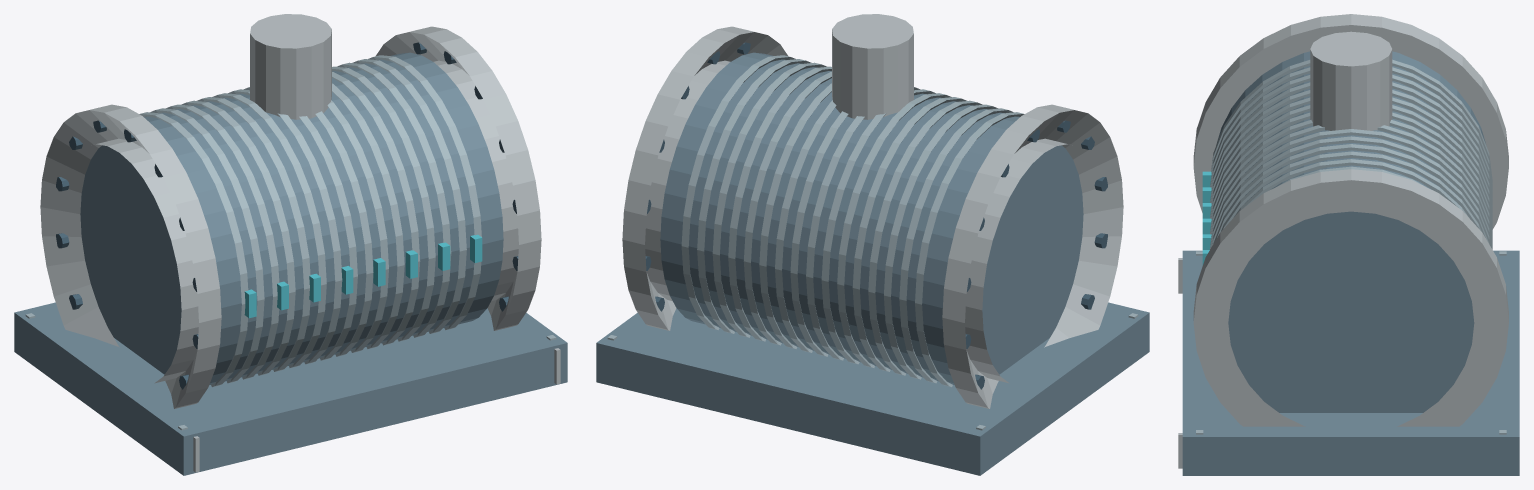
Rendered from 25_L72_TurbomolecularVacuumPump.glb.
3 views of the same model, side by side, from view 1: azimuth 30°, elevation 25°; view 2: azimuth 150°, elevation 25°; view 3: azimuth 270°, elevation 25° (orthographic).
Parts seen in each view (by area): view 1: TurbomolecularVacuumPump_Part_007, TurbomolecularVacuumPump_Part_000, TurbomolecularVacuumPump_Part_184, TurbomolecularVacuumPump_Part_199, TurbomolecularVacuumPump_Part_214, TurbomolecularVacuumPump_Part_162, TurbomolecularVacuumPump_Part_019, TurbomolecularVacuumPump_Part_052, TurbomolecularVacuumPump_Part_041, TurbomolecularVacuumPump_Part_140, TurbomolecularVacuumPump_Part_063, TurbomolecularVacuumPump_Part_030 (+9 smaller); view 2: TurbomolecularVacuumPump_Part_007, TurbomolecularVacuumPump_Part_000, TurbomolecularVacuumPump_Part_184, TurbomolecularVacuumPump_Part_199, TurbomolecularVacuumPump_Part_214, TurbomolecularVacuumPump_Part_162, TurbomolecularVacuumPump_Part_063, TurbomolecularVacuumPump_Part_052, TurbomolecularVacuumPump_Part_041, TurbomolecularVacuumPump_Part_030, TurbomolecularVacuumPump_Part_173, TurbomolecularVacuumPump_Part_151 (+9 smaller); view 3: TurbomolecularVacuumPump_Part_007, TurbomolecularVacuumPump_Part_000, TurbomolecularVacuumPump_Part_199, TurbomolecularVacuumPump_Part_184, TurbomolecularVacuumPump_Part_214, TurbomolecularVacuumPump_Part_118, TurbomolecularVacuumPump_Part_129, TurbomolecularVacuumPump_Part_140, TurbomolecularVacuumPump_Part_151, TurbomolecularVacuumPump_Part_107, TurbomolecularVacuumPump_Part_096, TurbomolecularVacuumPump_Part_041 (+9 smaller).
Part boxes in pixels (left/top/right/bottom): TurbomolecularVacuumPump_Part_007: left=80, top=52, right=503, bottom=384; TurbomolecularVacuumPump_Part_000: left=14, top=302, right=567, bottom=475; TurbomolecularVacuumPump_Part_184: left=40, top=104, right=221, bottom=408; TurbomolecularVacuumPump_Part_199: left=376, top=26, right=541, bottom=330; TurbomolecularVacuumPump_Part_214: left=250, top=14, right=331, bottom=119; TurbomolecularVacuumPump_Part_162: left=352, top=59, right=466, bottom=333; TurbomolecularVacuumPump_Part_019: left=150, top=108, right=264, bottom=383; TurbomolecularVacuumPump_Part_052: left=197, top=97, right=310, bottom=371; TurbomolecularVacuumPump_Part_041: left=181, top=100, right=295, bottom=375; TurbomolecularVacuumPump_Part_140: left=332, top=66, right=435, bottom=341; TurbomolecularVacuumPump_Part_063: left=212, top=93, right=326, bottom=367; TurbomolecularVacuumPump_Part_030: left=165, top=104, right=279, bottom=379; TurbomolecularVacuumPump_Part_007: left=660, top=52, right=1083, bottom=384; TurbomolecularVacuumPump_Part_000: left=596, top=302, right=1149, bottom=475; TurbomolecularVacuumPump_Part_184: left=942, top=104, right=1123, bottom=408; TurbomolecularVacuumPump_Part_199: left=622, top=26, right=787, bottom=330; TurbomolecularVacuumPump_Part_214: left=832, top=14, right=913, bottom=119; TurbomolecularVacuumPump_Part_162: left=697, top=59, right=811, bottom=333; TurbomolecularVacuumPump_Part_063: left=837, top=93, right=951, bottom=367; TurbomolecularVacuumPump_Part_052: left=852, top=97, right=966, bottom=371; TurbomolecularVacuumPump_Part_041: left=868, top=100, right=982, bottom=375; TurbomolecularVacuumPump_Part_030: left=884, top=104, right=998, bottom=379; TurbomolecularVacuumPump_Part_173: left=681, top=55, right=795, bottom=330; TurbomolecularVacuumPump_Part_151: left=712, top=62, right=826, bottom=337; TurbomolecularVacuumPump_Part_007: left=1216, top=51, right=1485, bottom=412; TurbomolecularVacuumPump_Part_000: left=1182, top=250, right=1519, bottom=475; TurbomolecularVacuumPump_Part_199: left=1193, top=169, right=1508, bottom=426; TurbomolecularVacuumPump_Part_184: left=1193, top=14, right=1508, bottom=229; TurbomolecularVacuumPump_Part_214: left=1310, top=31, right=1392, bottom=130; TurbomolecularVacuumPump_Part_118: left=1211, top=129, right=1491, bottom=247; TurbomolecularVacuumPump_Part_129: left=1212, top=136, right=1490, bottom=245; TurbomolecularVacuumPump_Part_140: left=1213, top=144, right=1489, bottom=243; TurbomolecularVacuumPump_Part_151: left=1221, top=151, right=1481, bottom=231; TurbomolecularVacuumPump_Part_107: left=1210, top=125, right=1492, bottom=249; TurbomolecularVacuumPump_Part_096: left=1211, top=120, right=1492, bottom=246; TurbomolecularVacuumPump_Part_041: left=1210, top=82, right=1492, bottom=209.
Bounding box in the file's own units: 2.04 × 1.71 × 1.58.
